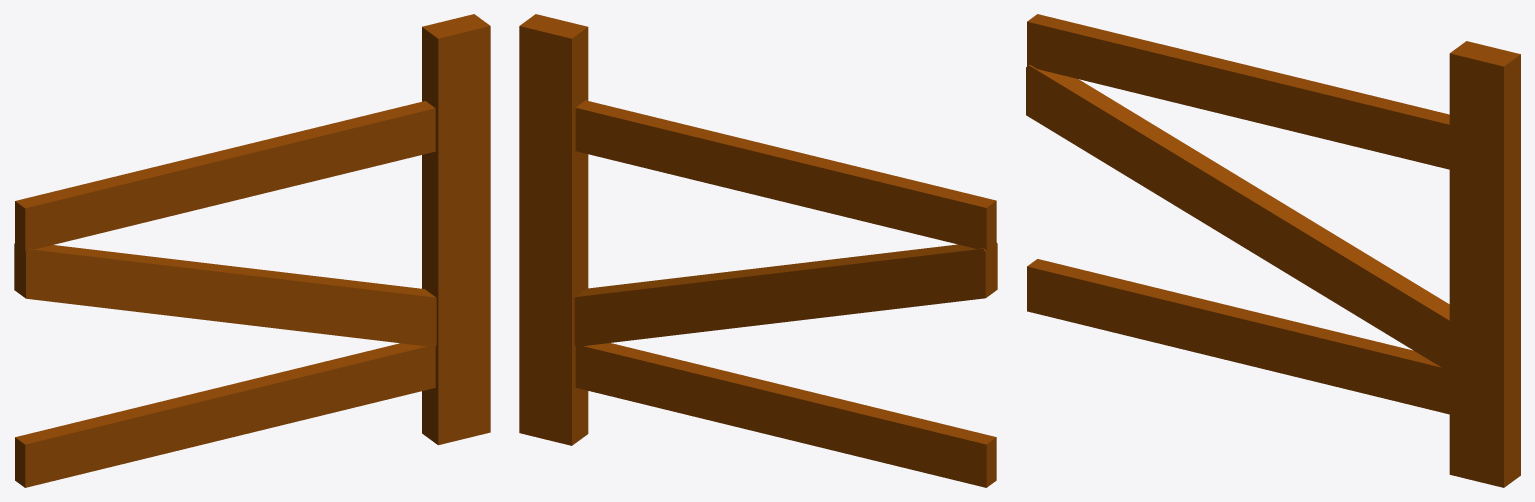
Rendered from Fence_Timber_Small_End_02.fbx.
3 views of the same model, side by side, from view 1: azimuth 30°, elevation 25°; view 2: azimuth 150°, elevation 25°; view 3: azimuth 330°, elevation 25° (orthographic). The views are drawn at different scales.
Visible parts, largest first — view 1: Fence_Timber_Small_End_02; view 2: Fence_Timber_Small_End_02; view 3: Fence_Timber_Small_End_02.
Boxes of the visible parts, x1,y1,x2,y2 form: Fence_Timber_Small_End_02: (14, 14, 490, 487); Fence_Timber_Small_End_02: (519, 14, 997, 487); Fence_Timber_Small_End_02: (1026, 14, 1520, 487).
Size of the model in its own units: 42.46 by 35.64 by 2.59.
